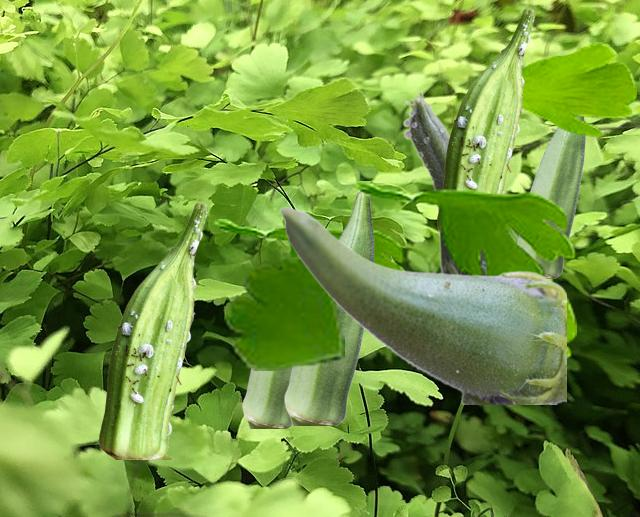okra: (279, 206, 565, 403), (99, 202, 207, 458), (437, 8, 534, 232), (402, 90, 517, 274), (284, 191, 373, 424), (517, 118, 584, 277), (242, 370, 293, 427)
